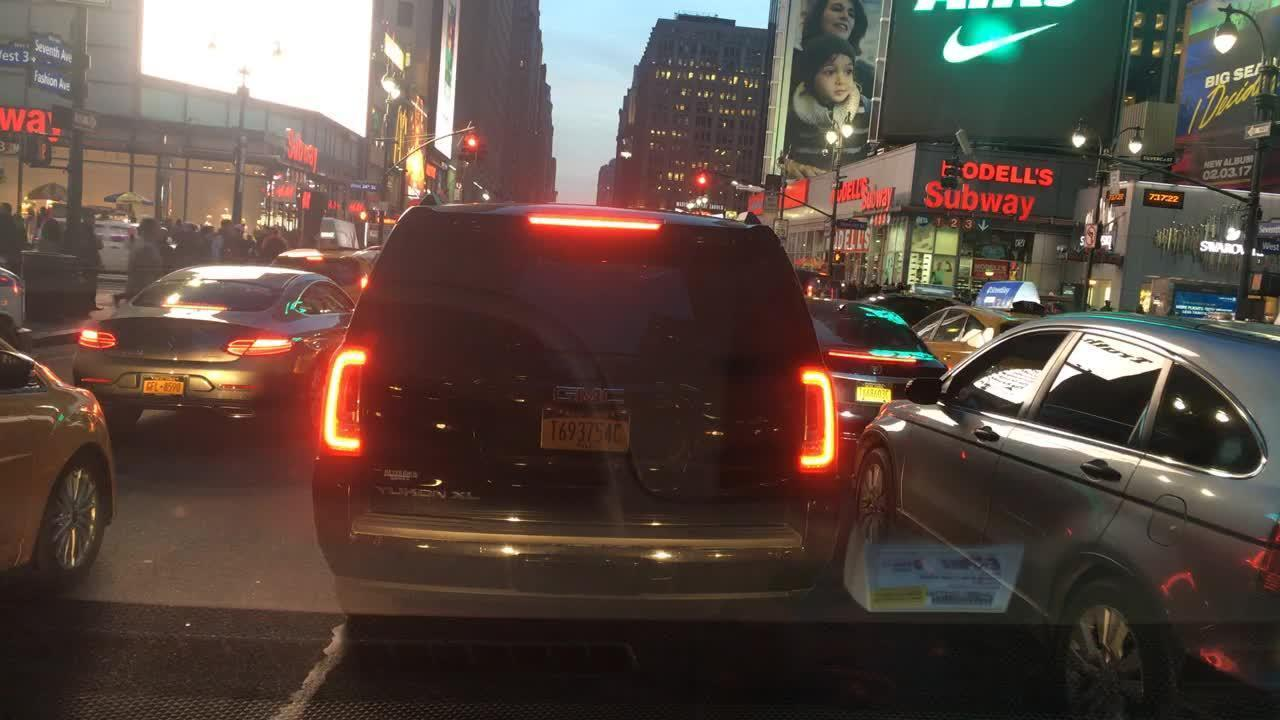GMC: (546, 377, 628, 413)
